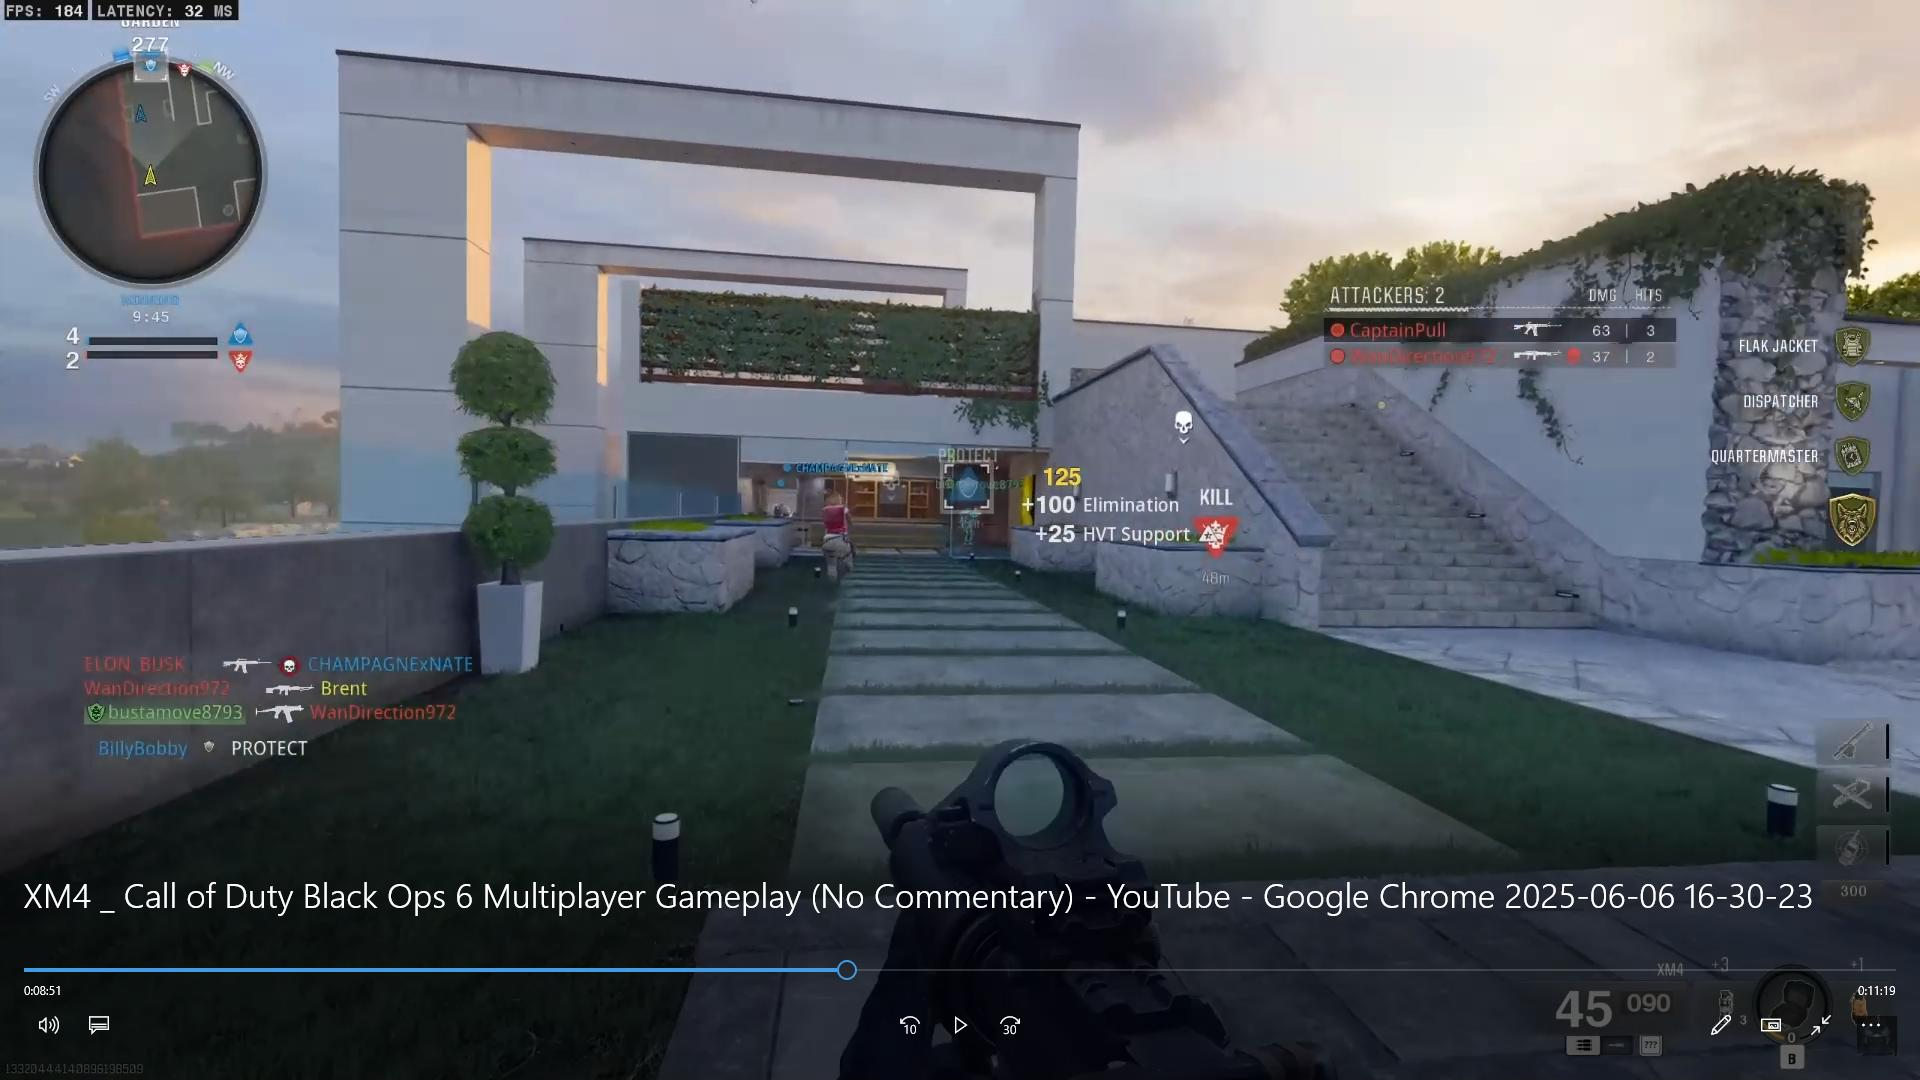Enemy: (812, 488, 858, 583)
